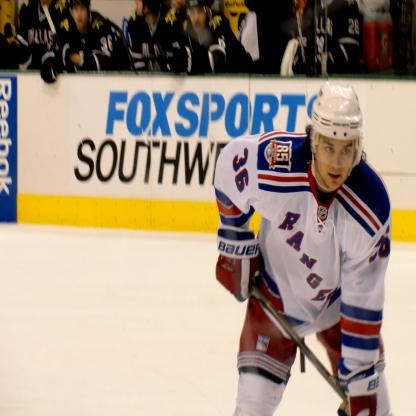Helmet: (316, 90, 371, 186), (69, 0, 91, 23), (185, 0, 208, 17)
